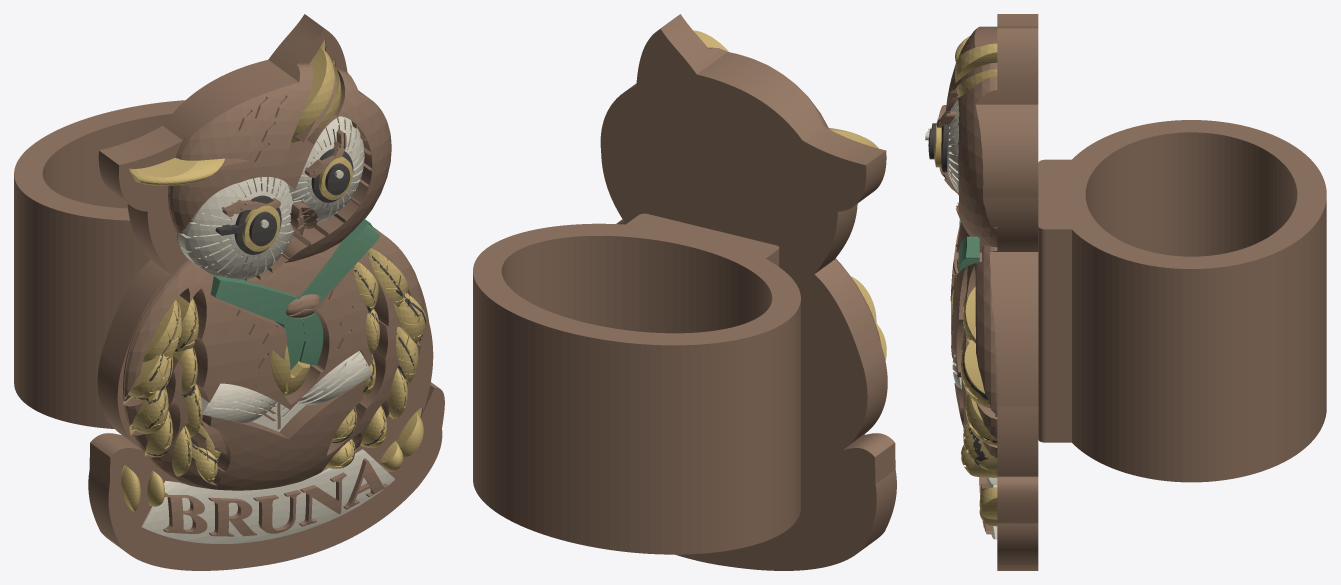
The model's file is anilha-coruja-bruna-v3-montada.glb.
3 views of the same model, side by side, from view 1: azimuth 30°, elevation 25°; view 2: azimuth 150°, elevation 25°; view 3: azimuth 270°, elevation 25° (orthographic).
Visible parts, largest first — view 1: castanho, anilha-castanha, dourado, creme, lenco-verde, preto, no-castanho; view 2: anilha-castanha, castanho, dourado; view 3: anilha-castanha, castanho, dourado, creme, preto, lenco-verde.
Part boxes in pixels (left/top/right/bottom): castanho: left=88, top=14, right=444, bottom=570; anilha-castanha: left=14, top=100, right=184, bottom=428; dourado: left=121, top=39, right=426, bottom=511; creme: left=141, top=116, right=395, bottom=543; lenco-verde: left=210, top=219, right=380, bottom=369; preto: left=124, top=148, right=425, bottom=470; no-castanho: left=286, top=294, right=320, bottom=318; anilha-castanha: left=473, top=213, right=800, bottom=554; castanho: left=600, top=14, right=896, bottom=570; dourado: left=694, top=30, right=886, bottom=360; anilha-castanha: left=1038, top=120, right=1326, bottom=482; castanho: left=936, top=14, right=1038, bottom=570; dourado: left=934, top=36, right=997, bottom=526; creme: left=925, top=99, right=997, bottom=539; preto: left=928, top=123, right=997, bottom=466; lenco-verde: left=958, top=219, right=979, bottom=272.
Size of the model in its own units: 33.65 by 50 by 34.13.
